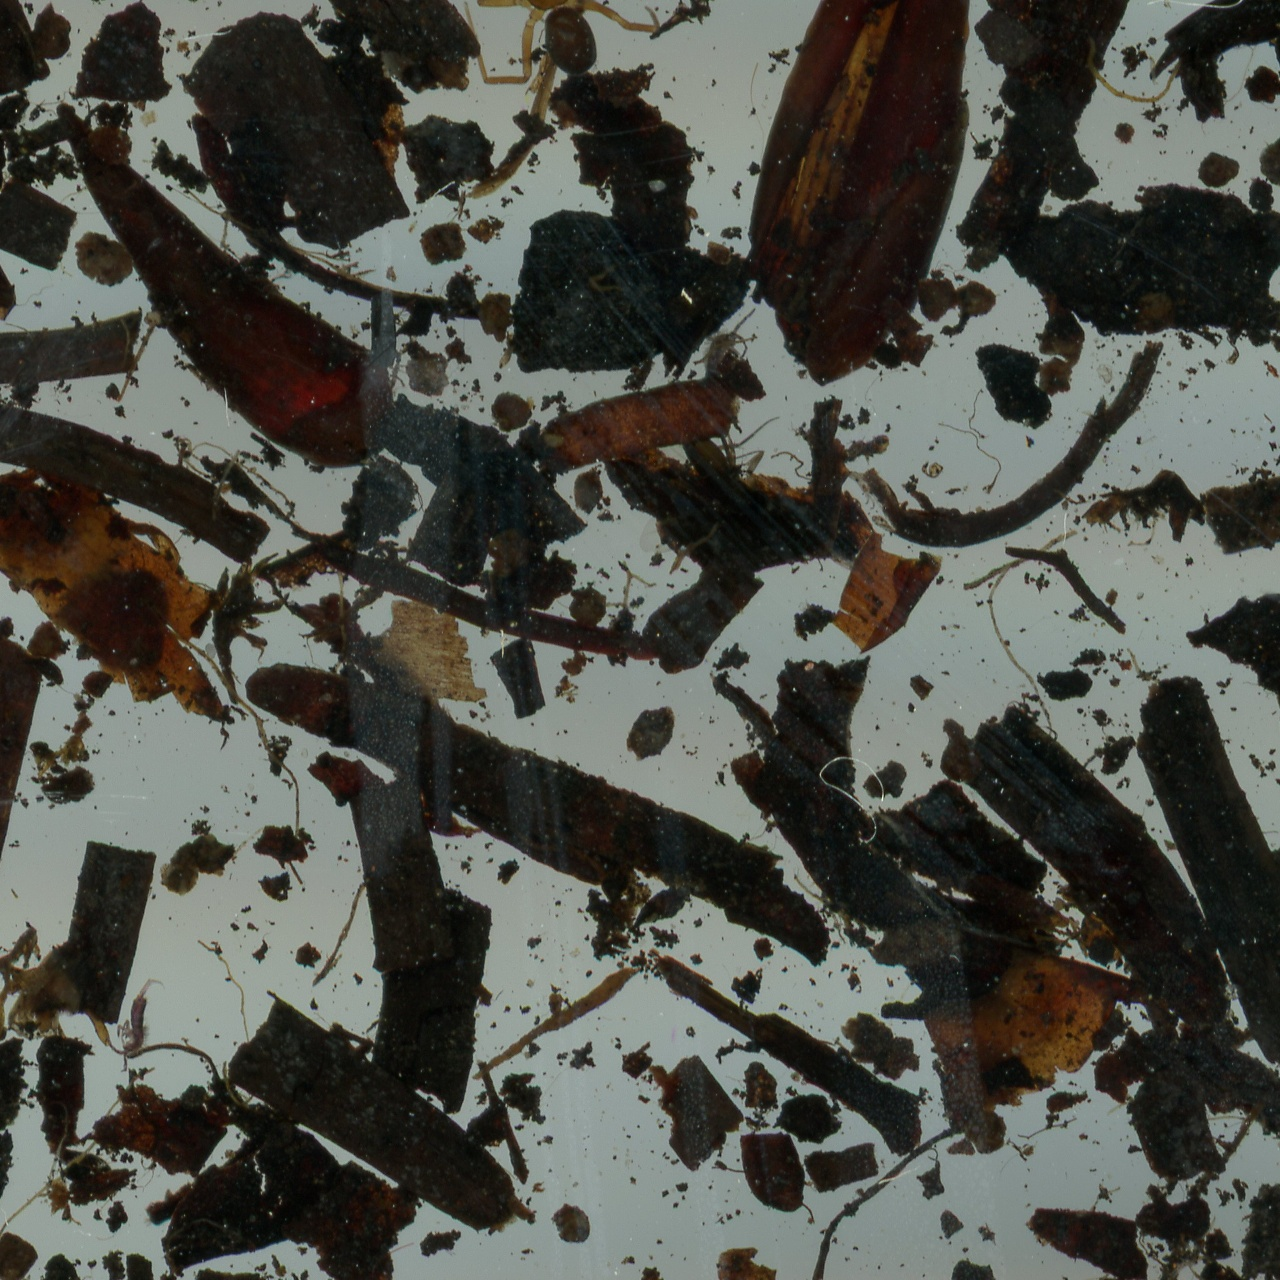arthropod: (440, 0, 664, 86), (115, 976, 165, 1061), (704, 307, 762, 374)
